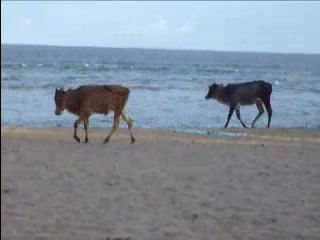cow: (53, 85, 137, 144)
